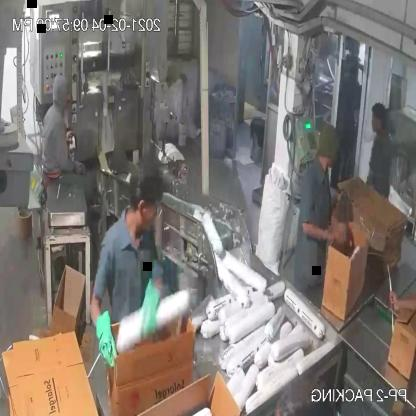glove: (82, 292, 117, 375), (137, 267, 165, 339)
no_glove: (302, 215, 352, 248), (383, 280, 416, 329)
